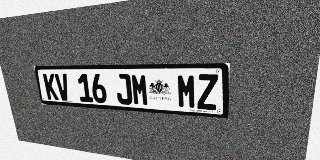1: (76, 74, 93, 102)
6: (90, 74, 107, 103)
J: (115, 74, 133, 105)
K: (43, 74, 59, 100)
M: (177, 74, 197, 109), (131, 74, 149, 106)
V: (54, 74, 71, 101)
Z: (197, 74, 218, 110)
